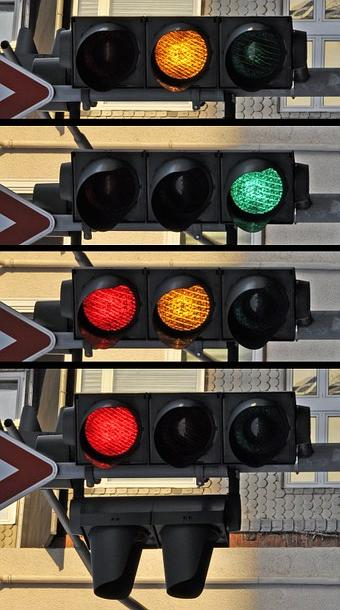trafic: (74, 394, 296, 462), (72, 275, 294, 343), (71, 156, 293, 224), (75, 21, 297, 89)
